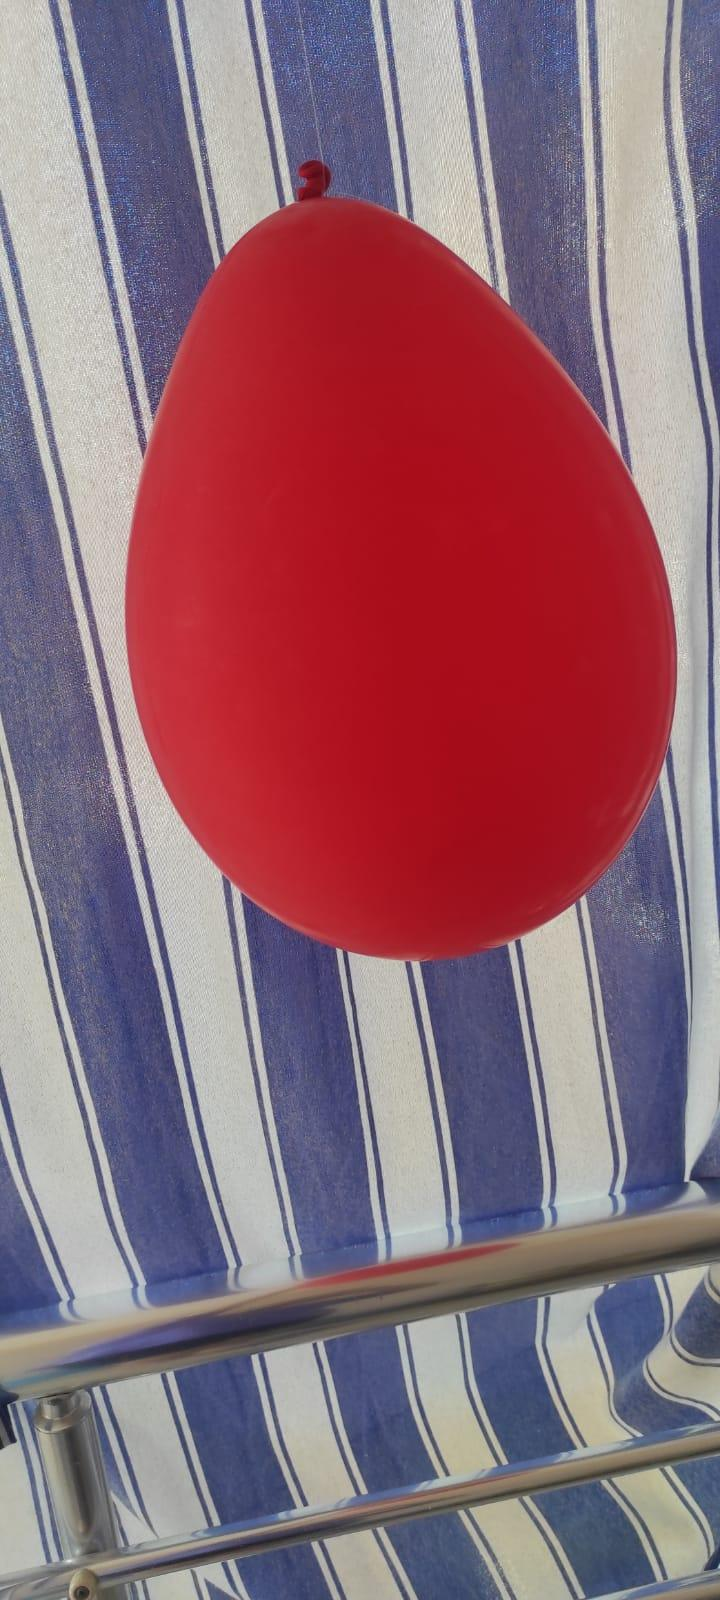red: (117, 157, 684, 960)
